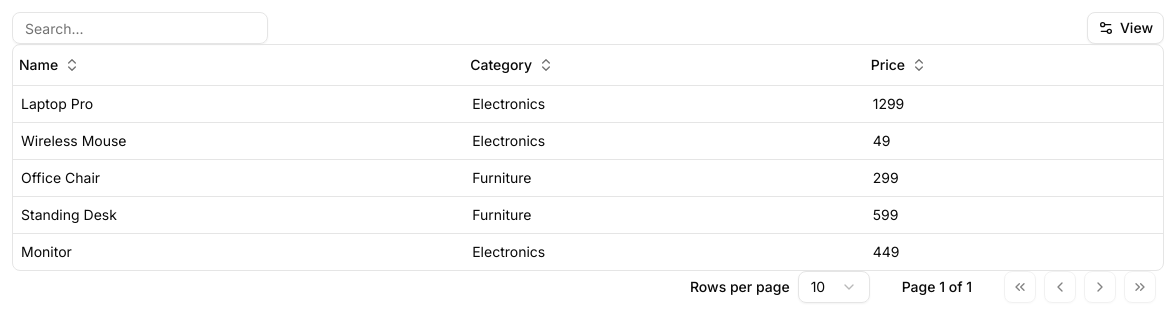
DataTable global search › filters rows and resets
The image size is (1176, 320).
Type "furn" into the search field labelled "Search...". click: (140, 28)
box: x1=12 y1=12 x2=268 y2=44
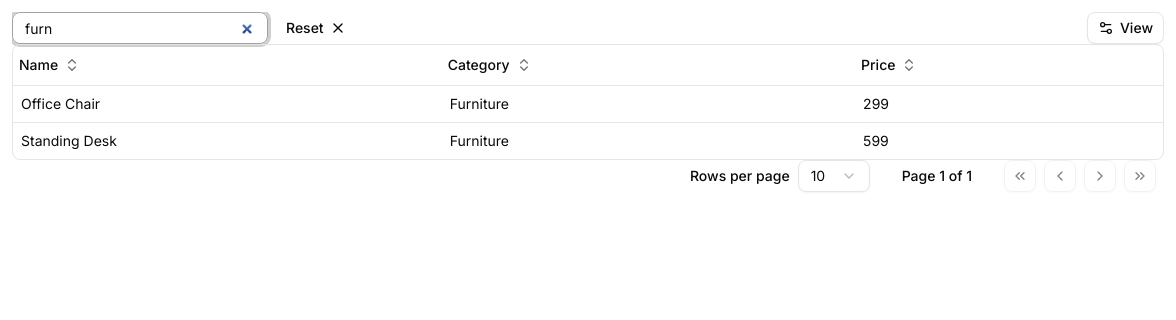
Click the button "Reset". click: (316, 28)
box: x1=276 y1=12 x2=356 y2=44
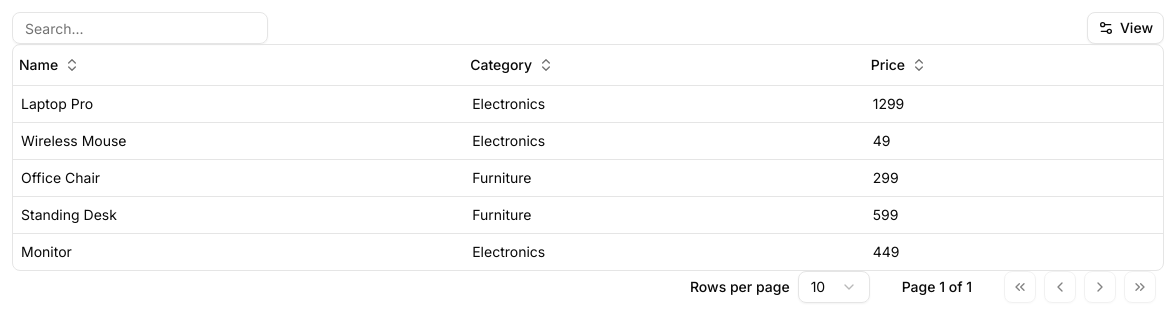
Check: the search field is empty, box x1=12 y1=12 x2=268 y2=44
